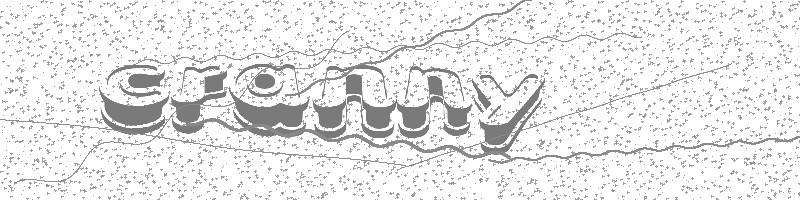a: (230, 62, 309, 138)
c: (99, 63, 167, 135)
n: (312, 63, 396, 140), (397, 66, 472, 138)
r: (171, 63, 228, 134)
y: (472, 73, 543, 155)
